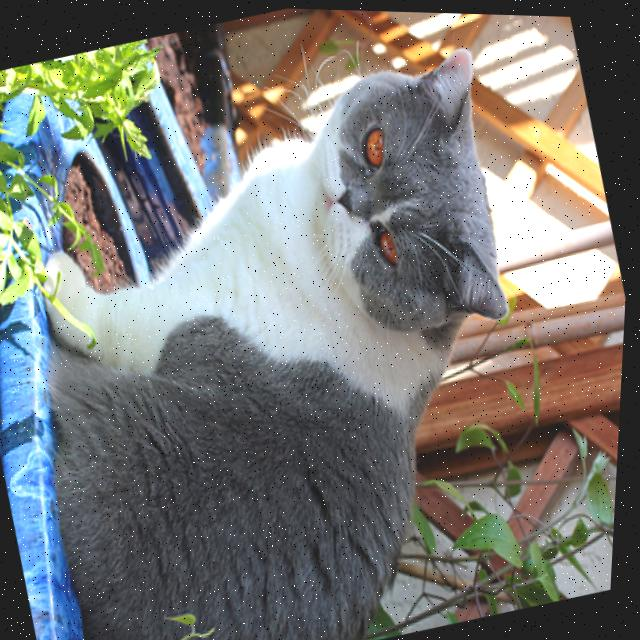British Shorthair: (0, 24, 610, 640)
